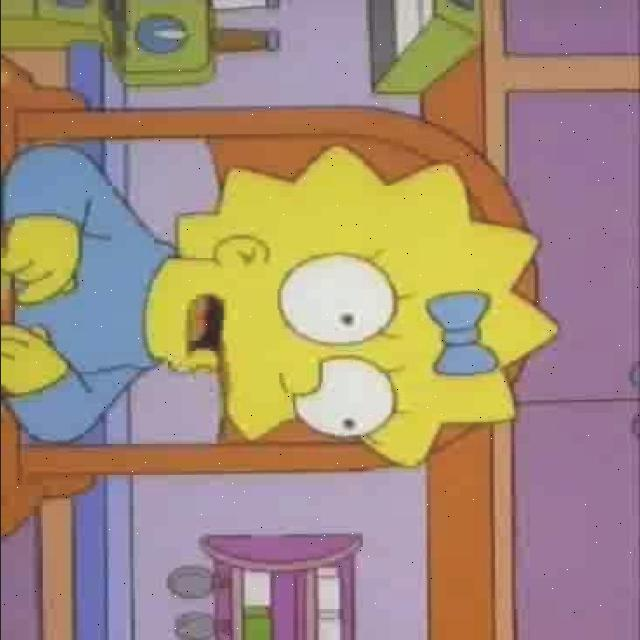Maggie Simpson: (138, 142, 564, 472)
